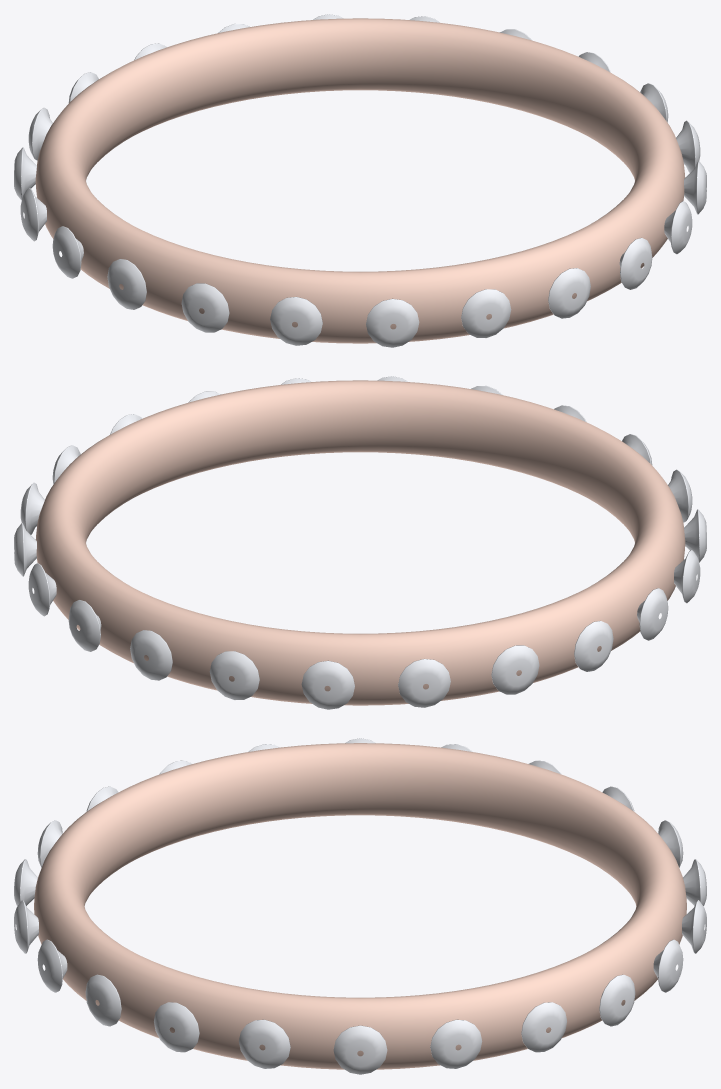
Rendered from ring-eternity.glb.
The picture shows the model from 3 angles, top to bottom: view 1: azimuth 30°, elevation 25°; view 2: azimuth 150°, elevation 25°; view 3: azimuth 270°, elevation 25°; orthographic projection.
Parts seen in each view (by area): view 1: band, stones; view 2: band, stones; view 3: band, stones.
Boxes of the visible parts, x1,y1,x2,y2 form: band: [35, 18, 685, 343]; stones: [14, 14, 706, 347]; band: [35, 380, 685, 705]; stones: [14, 376, 706, 709]; band: [34, 743, 686, 1069]; stones: [14, 738, 706, 1074].
Size of the model in its own units: 0.0219 by 0.0024 by 0.0219.
